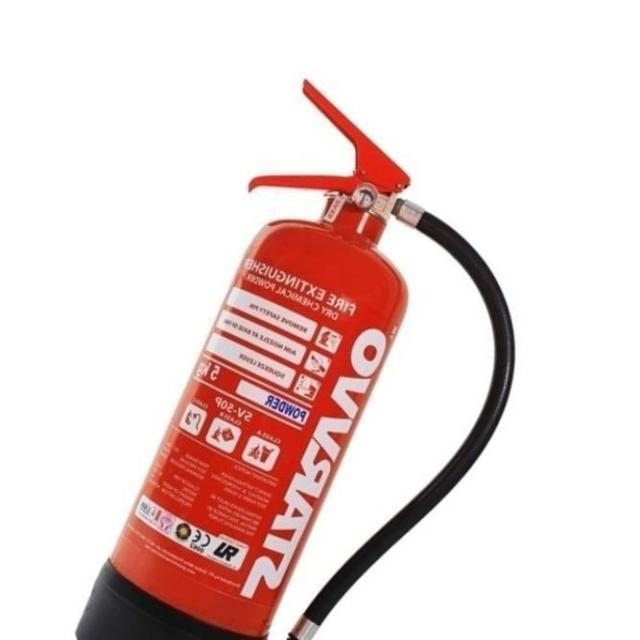fire_extinguisher: (65, 71, 521, 639)
